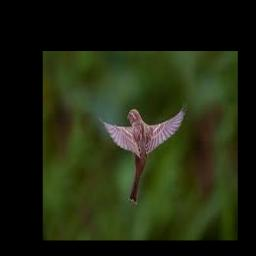Sparrow: (97, 102, 187, 204)
